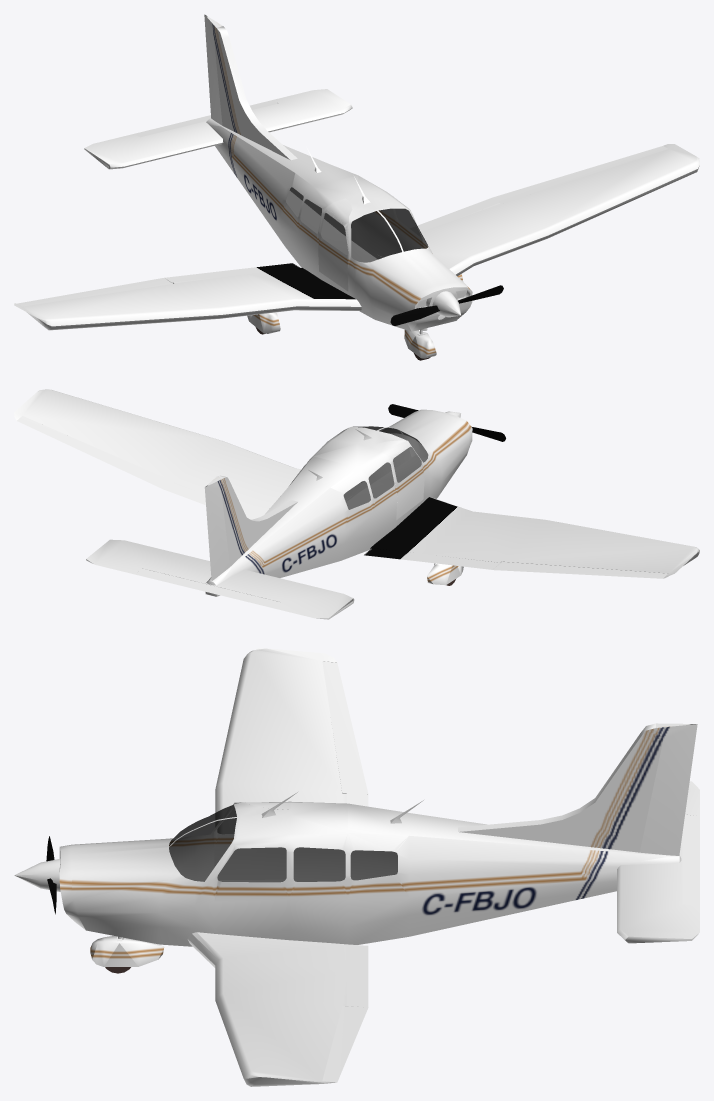
The picture shows the model from 3 angles, top to bottom: view 1: azimuth 30°, elevation 25°; view 2: azimuth 150°, elevation 25°; view 3: azimuth 270°, elevation 25°; orthographic projection. The views are drawn at different scales.
Parts seen in each view (by area): view 1: body, elevR2, ailL1, gear, rud1, ailR1, flapR1, fanL1, flapL1, elevR1; view 2: body, elevR2, rud1, ailL1, ailR1, elevR1, flapR1, gear, fanL1, flapL1; view 3: body, elevR2, rud1, ailR1, gear, ailL1, elevR1, flapL1.
Part boxes in pixels (x1,y1,x2,y2): body: [14, 26, 699, 331]; elevR2: [84, 89, 352, 169]; ailL1: [492, 146, 667, 203]; gear: [247, 273, 463, 360]; rud1: [204, 14, 223, 125]; ailR1: [17, 278, 173, 306]; flapR1: [164, 263, 300, 283]; fanL1: [390, 285, 503, 325]; flapL1: [410, 198, 498, 233]; elevR1: [134, 100, 277, 137]; body: [14, 389, 699, 596]; elevR2: [86, 539, 354, 619]; rud1: [204, 476, 229, 580]; ailL1: [17, 416, 174, 489]; ailR1: [493, 561, 668, 578]; elevR1: [135, 568, 279, 608]; flapR1: [364, 548, 500, 569]; gear: [427, 563, 463, 585]; fanL1: [388, 404, 505, 441]; flapL1: [165, 483, 261, 519]; body: [14, 648, 681, 1086]; elevR2: [617, 781, 699, 943]; rud1: [639, 723, 697, 855]; ailR1: [322, 661, 368, 794]; gear: [90, 936, 164, 973]; ailL1: [322, 1006, 368, 1082]; elevR1: [682, 814, 699, 905]; flapL1: [346, 944, 368, 1007].
Size of the model in its own units: 10.33 by 2.77 by 6.97.
Materials: 11 (6 with a texture image).
